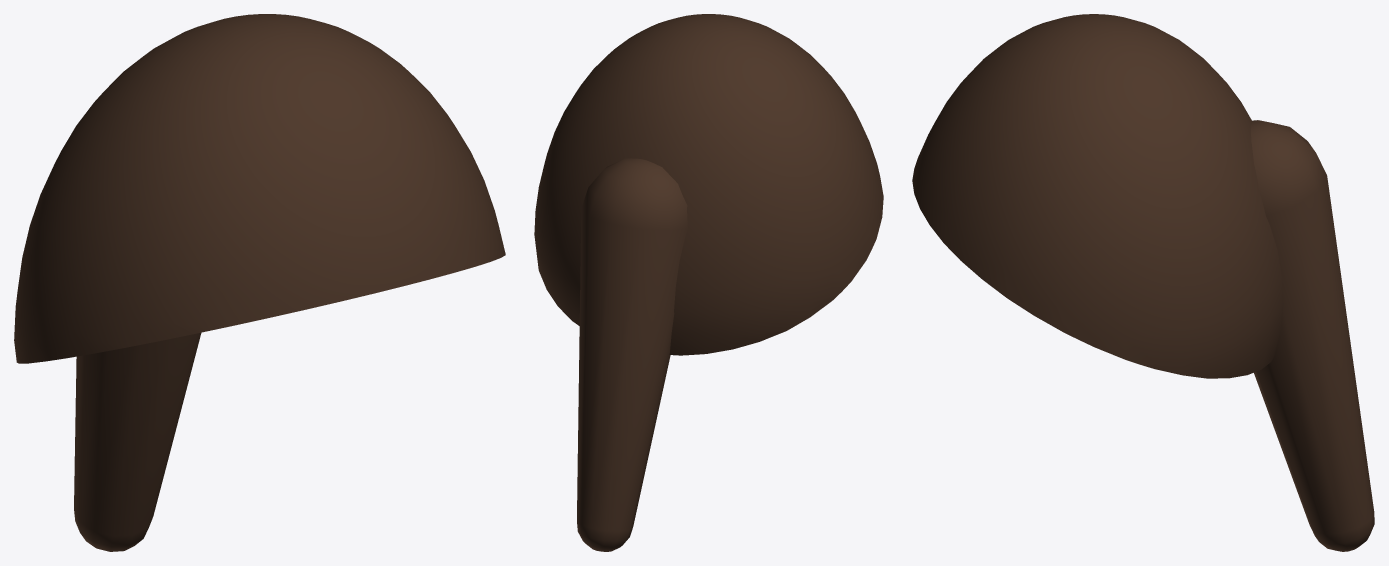
The model's file is hair_ponytail.fbx.
The picture shows the model from 3 angles, left to right: view 1: azimuth 30°, elevation 25°; view 2: azimuth 150°, elevation 25°; view 3: azimuth 270°, elevation 25°; orthographic projection. The views are drawn at different scales.
Visible parts, largest first — view 1: hair_ponytail; view 2: hair_ponytail; view 3: hair_ponytail.
Boxes of the visible parts, <box> form: hair_ponytail: <box>14,14,505,551</box>; hair_ponytail: <box>534,14,883,551</box>; hair_ponytail: <box>912,14,1374,551</box>.
Bounding box in the file's own units: 0.2947 × 0.4052 × 0.3269.
